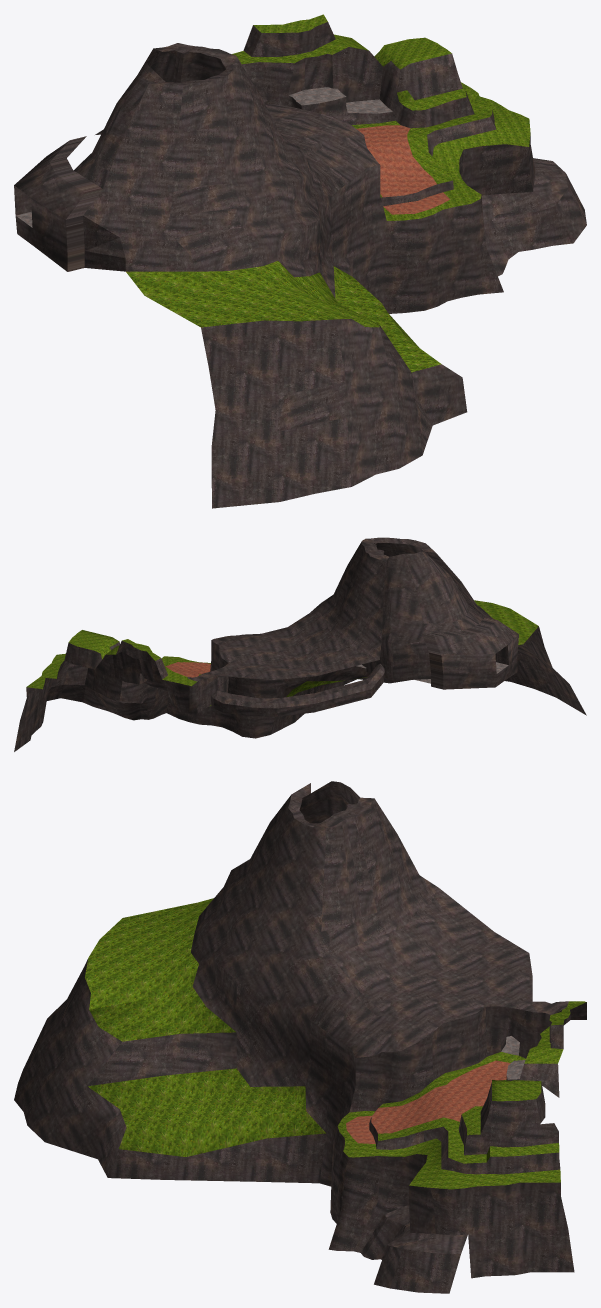
File: Island_1_02.fbx
3 views of the same model, one above another, from view 1: azimuth 30°, elevation 25°; view 2: azimuth 150°, elevation 25°; view 3: azimuth 270°, elevation 25° (orthographic). The views are drawn at different scales.
Parts seen in each view (by area): view 1: Island_1_02; view 2: Island_1_02; view 3: Island_1_02.
Part boxes in pixels (x1,y1,x2,y2): Island_1_02: (14, 14, 586, 508); Island_1_02: (14, 537, 586, 751); Island_1_02: (14, 781, 586, 1293).
Size of the model in its own units: 18864 by 16036 by 9417.
